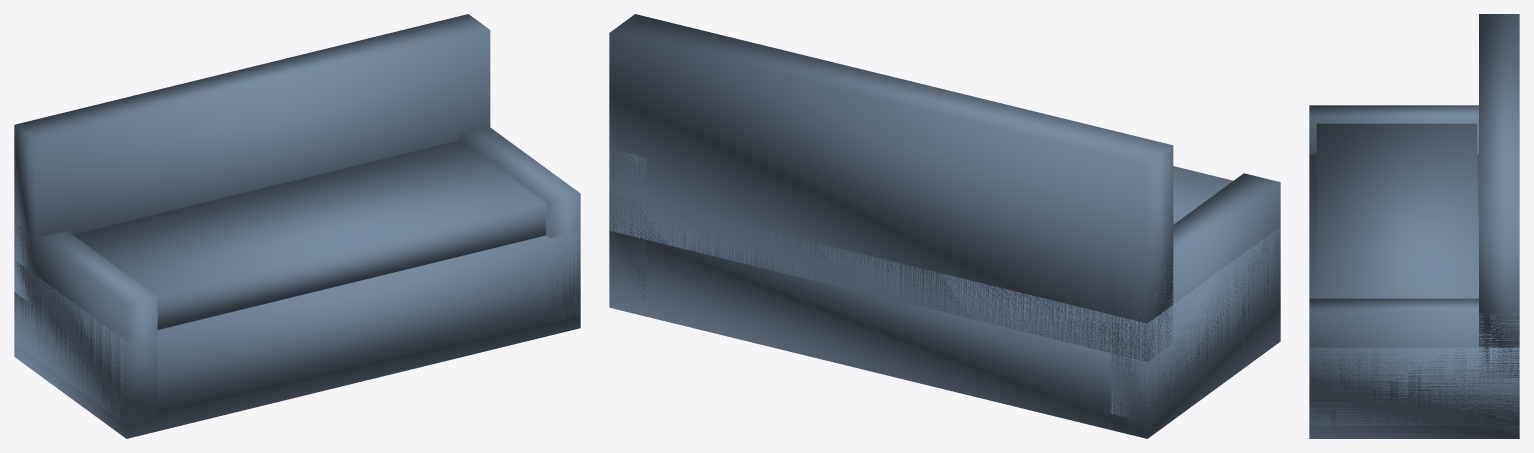
File: sofa__deep.glb
The picture shows the model from 3 angles, left to right: view 1: azimuth 30°, elevation 25°; view 2: azimuth 150°, elevation 25°; view 3: azimuth 270°, elevation 25°; orthographic projection. The views are drawn at different scales.
Parts seen in each view (by area): view 1: world; view 2: world; view 3: world.
Boxes of the visible parts, x1,y1,x2,y2 form: world: [14, 14, 580, 438]; world: [609, 14, 1280, 438]; world: [1309, 14, 1519, 438].
Size of the model in its own units: 2.05 by 1.03 by 0.8784.
